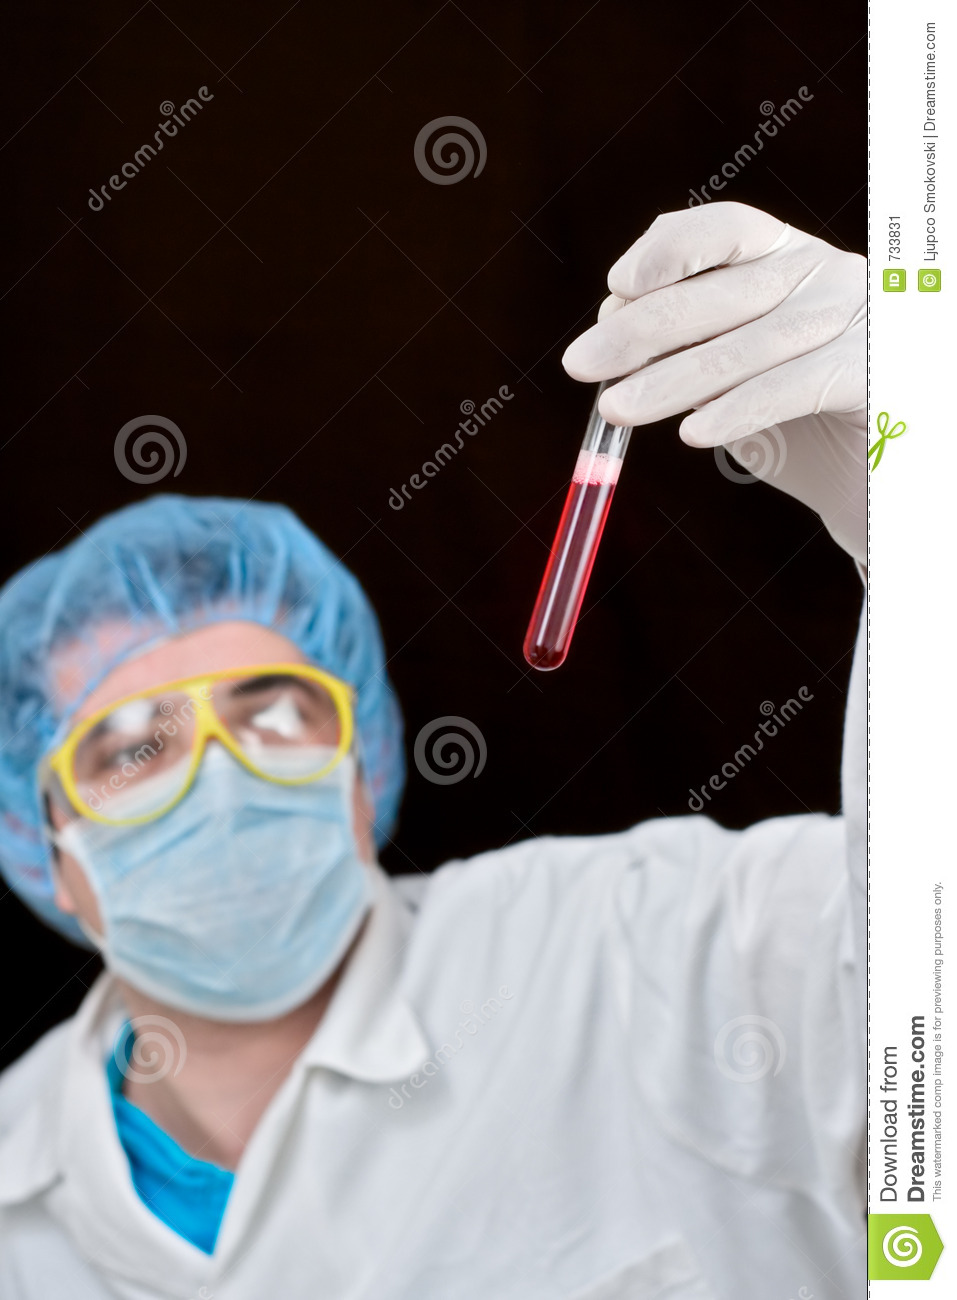mask: (72, 779, 378, 1013)
